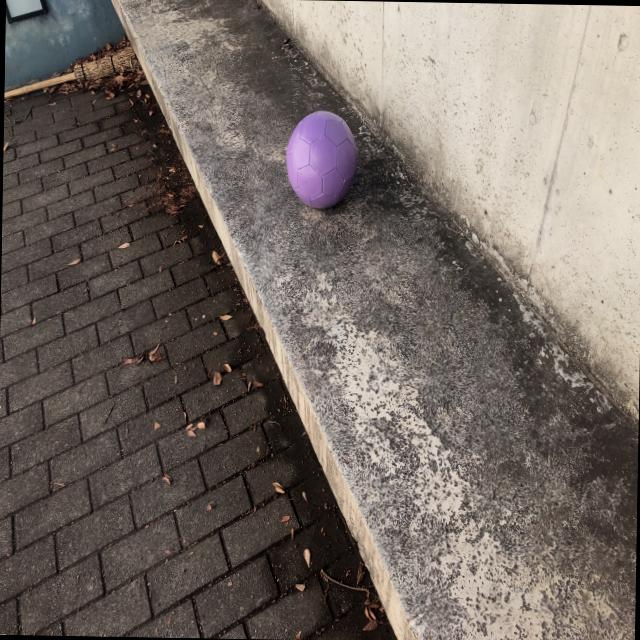purple_ball: (285, 108, 358, 208)
